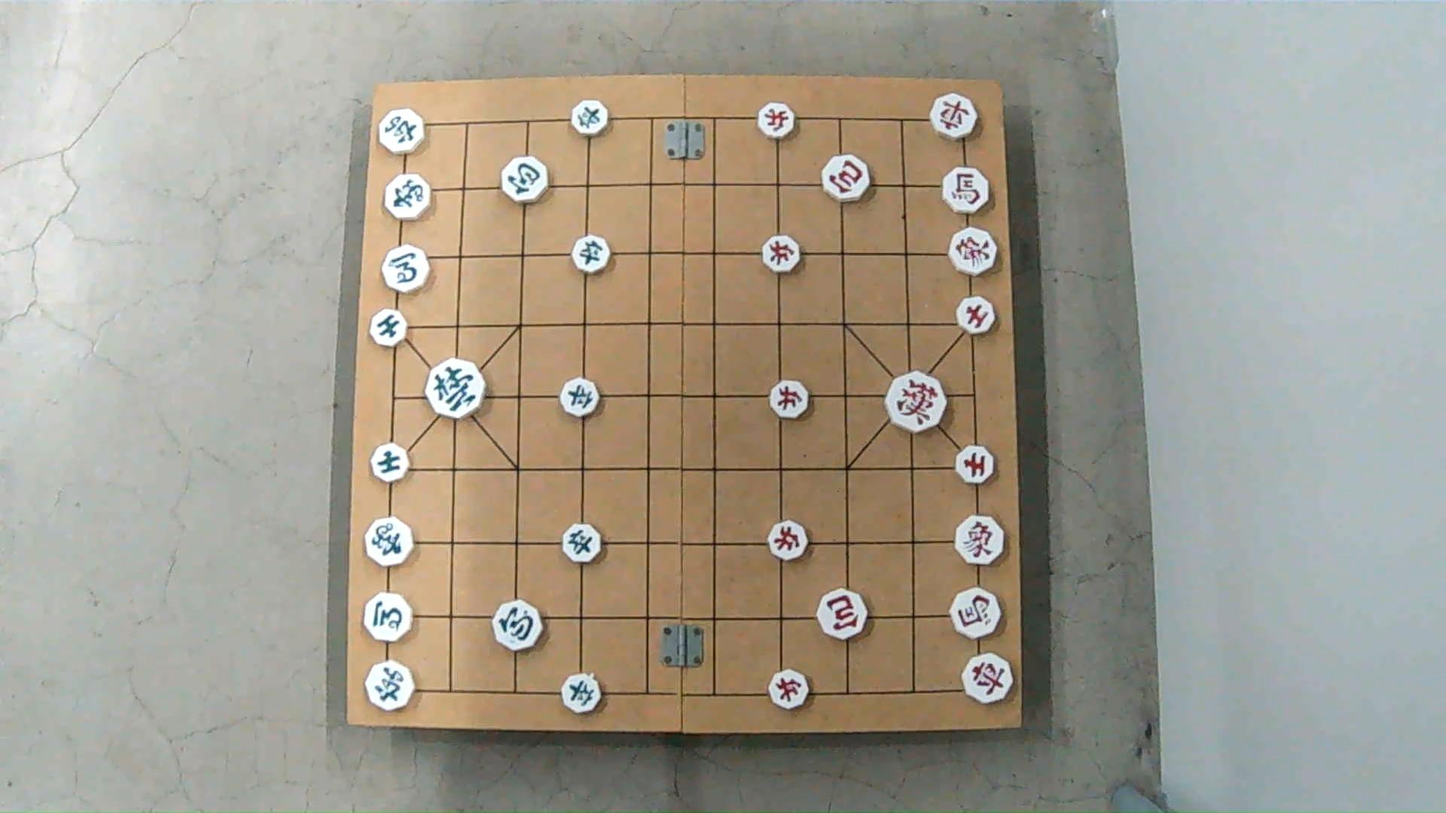cha_green: (365, 663, 416, 709), (380, 111, 429, 154)
cha_red: (962, 655, 1017, 702), (930, 94, 981, 138)
jol_green: (560, 674, 605, 712), (559, 526, 602, 562), (560, 381, 602, 416), (571, 239, 613, 273), (568, 104, 609, 136)
jol_red: (770, 671, 813, 708), (759, 237, 804, 271), (770, 384, 813, 419), (770, 524, 813, 559), (757, 104, 800, 136)
ma_green: (364, 595, 416, 642), (380, 247, 432, 289)
ma_red: (949, 592, 1004, 639), (943, 169, 994, 213)
po_green: (492, 604, 545, 649), (502, 157, 552, 200)
po_red: (816, 592, 869, 636), (819, 158, 871, 202)
sa_green: (368, 310, 411, 347), (370, 446, 411, 480)
sa_red: (953, 296, 997, 332), (954, 446, 995, 484)
sang_green: (382, 171, 430, 221), (364, 520, 416, 565)
sang_red: (954, 519, 1008, 565), (948, 228, 1000, 274)
wang_green: (426, 361, 489, 419)
wang_red: (883, 378, 949, 431)
